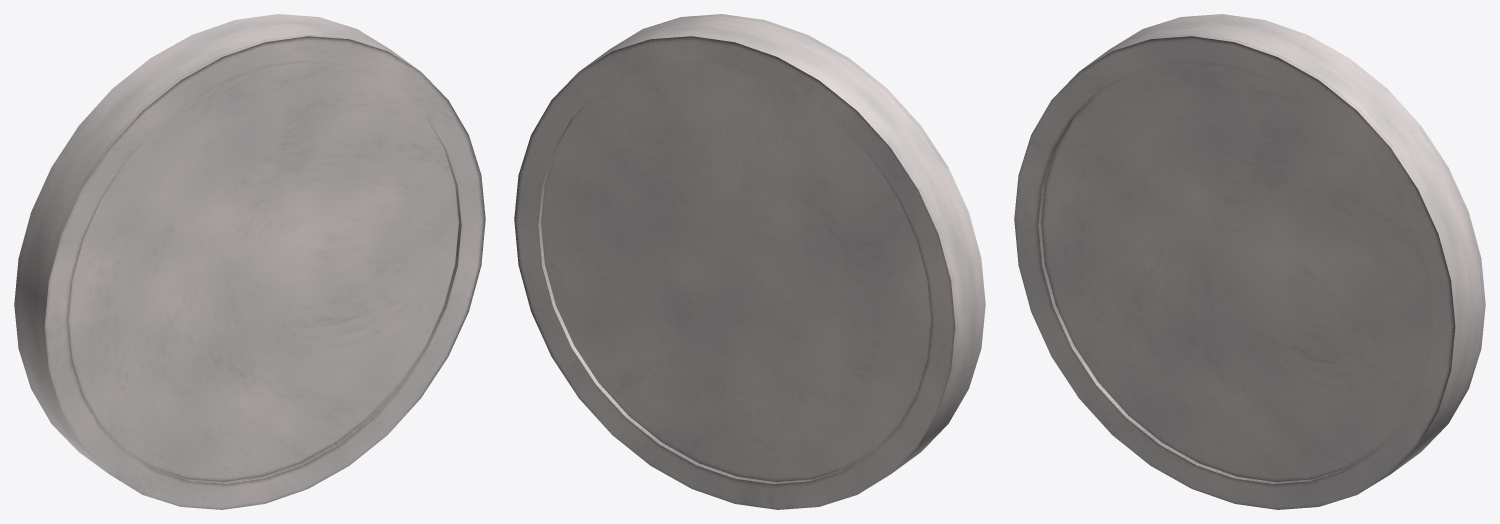
File: cylinder_symbol.fbx
The picture shows the model from 3 angles, left to right: view 1: azimuth 30°, elevation 25°; view 2: azimuth 150°, elevation 25°; view 3: azimuth 330°, elevation 25°; orthographic projection.
Parts seen in each view (by area): view 1: cylinder; view 2: cylinder; view 3: cylinder.
Part boxes in pixels (x1,y1,x2,y2): cylinder: (14, 14, 485, 509); cylinder: (514, 14, 985, 509); cylinder: (1014, 14, 1485, 509).
Bounding box in the file's own units: 190 × 190 × 22.59.
